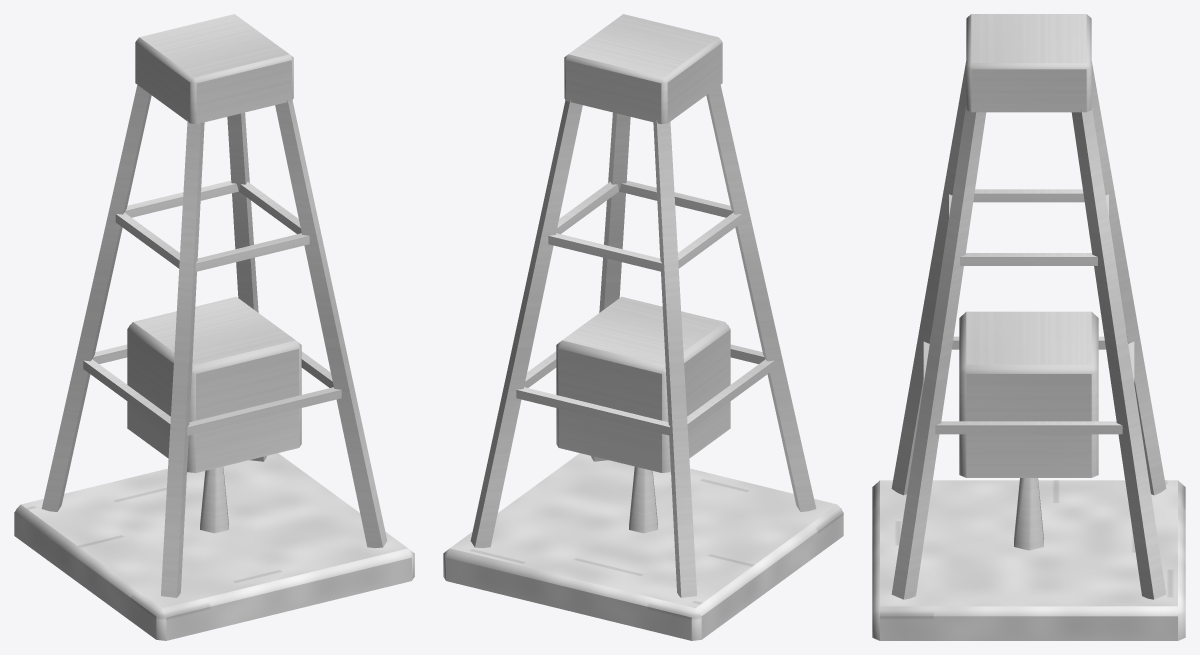
File: deep_drill.obj
3 renders of one model, left to right at view 1: azimuth 30°, elevation 25°; view 2: azimuth 150°, elevation 25°; view 3: azimuth 270°, elevation 25°, orthographic. The views are drawn at different scales.
Visible parts, largest first — view 1: concrete_footing, drill_motor, head_housing, retained_5, retained_25, retained_15, retained_35, retained_45, retained_130, retained_85, retained_75, retained_105 (+2 smaller); view 2: concrete_footing, drill_motor, head_housing, retained_15, retained_35, retained_5, retained_25, retained_65, retained_130, retained_105, retained_75, retained_85 (+2 smaller); view 3: concrete_footing, drill_motor, head_housing, retained_25, retained_35, retained_5, retained_15, retained_55, retained_130, retained_95, retained_115.
Part boxes in pixels (x1,y1,x2,y2): concrete_footing: (14, 453, 414, 640); drill_motor: (127, 296, 301, 472); head_housing: (135, 14, 293, 124); retained_5: (161, 119, 204, 597); retained_25: (275, 99, 387, 548); retained_15: (41, 83, 151, 511); retained_35: (227, 112, 266, 461); retained_45: (187, 387, 341, 435); retained_130: (200, 466, 228, 533); retained_85: (195, 233, 309, 271); retained_75: (83, 359, 170, 431); retained_105: (125, 180, 238, 217); concrete_footing: (443, 453, 843, 640); drill_motor: (556, 296, 730, 472); head_housing: (564, 14, 722, 124); retained_15: (653, 119, 696, 597); retained_35: (470, 99, 582, 548); retained_5: (706, 83, 816, 511); retained_25: (591, 112, 630, 461); retained_65: (516, 387, 670, 435); retained_130: (629, 466, 657, 533); retained_105: (548, 233, 662, 271); retained_75: (687, 359, 774, 431); retained_85: (619, 180, 732, 217); concrete_footing: (872, 480, 1185, 640); drill_motor: (959, 311, 1098, 477); head_housing: (966, 14, 1091, 112); retained_25: (891, 105, 986, 599); retained_35: (1071, 105, 1166, 599); retained_5: (891, 61, 966, 495); retained_15: (1091, 61, 1166, 495); retained_55: (935, 421, 1122, 434); retained_130: (1014, 478, 1043, 550); retained_95: (960, 253, 1097, 265); retained_115: (973, 189, 1084, 202).
Bounding box in the file's own units: 0.9 × 1.7 × 0.9.
